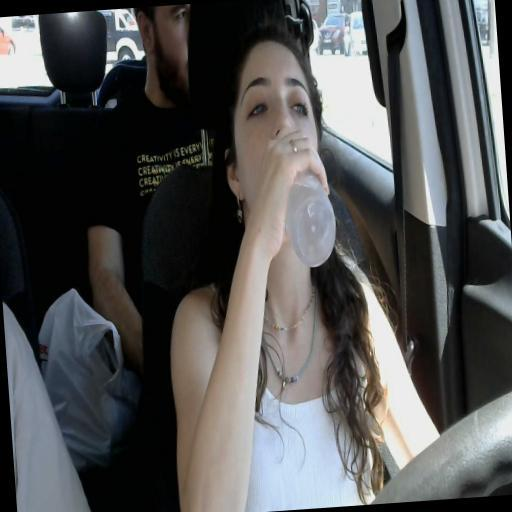Drinking: (224, 44, 338, 268)
